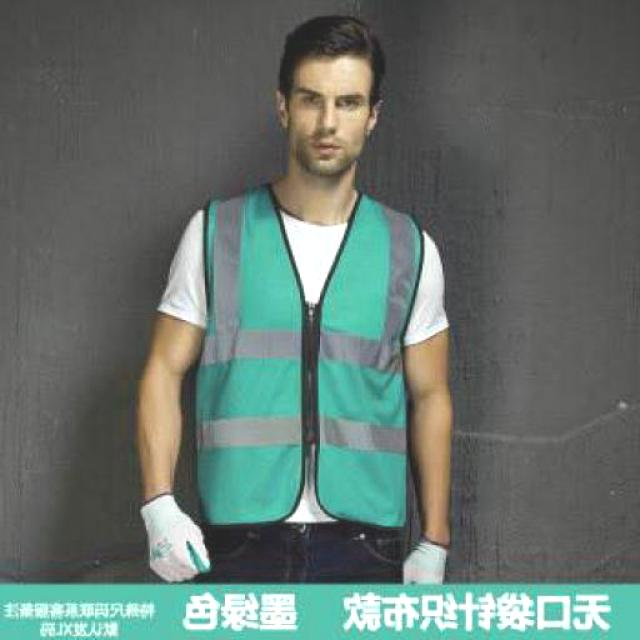face_nomask: (285, 78, 373, 174)
hand_glove: (138, 494, 220, 584)
head_nohelmet: (276, 8, 386, 78)
person: (122, 13, 462, 585)
vest: (186, 188, 426, 528)
